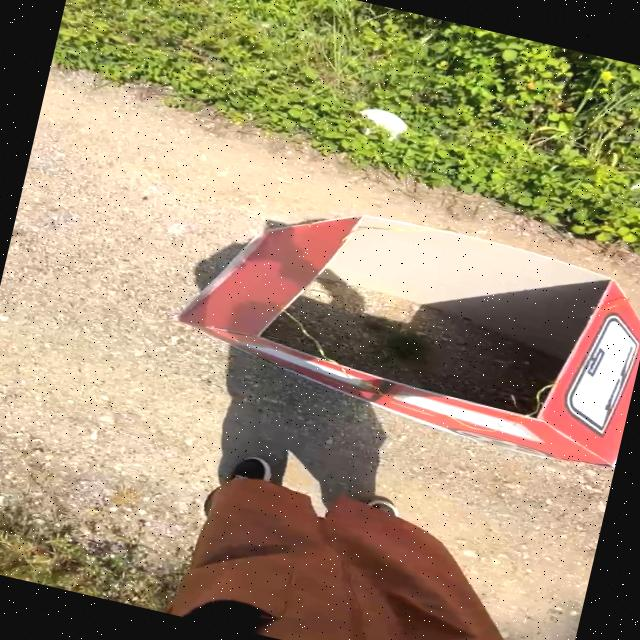red_car: (114, 151, 640, 512)
